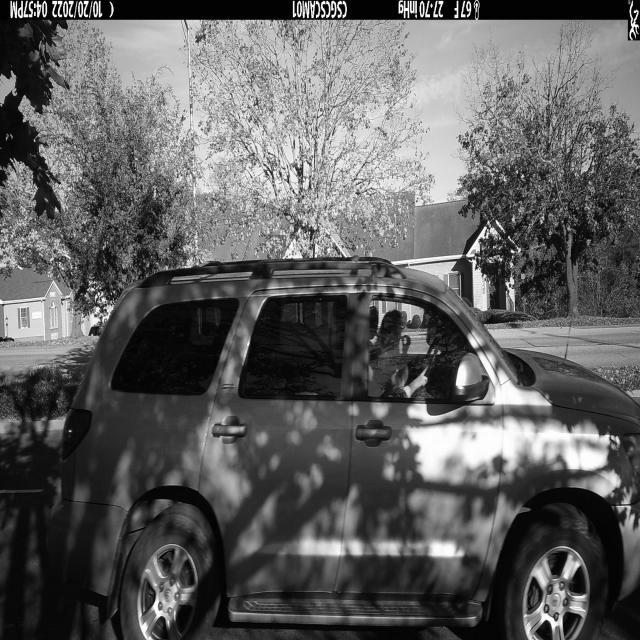SUV: (51, 256, 640, 640)
